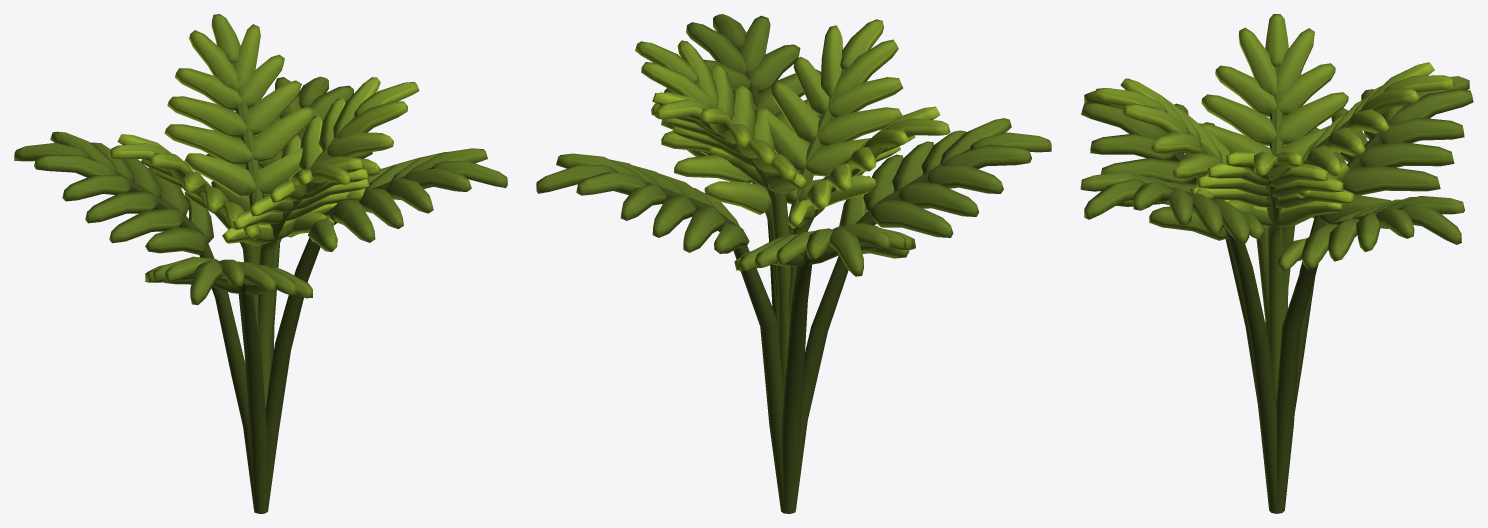
File: palm_tree_big_LOD_group.fbx
3 views of the same model, side by side, from view 1: azimuth 30°, elevation 25°; view 2: azimuth 150°, elevation 25°; view 3: azimuth 270°, elevation 25° (orthographic). The views are drawn at different scales.
Parts seen in each view (by area): view 1: palm_tree_big_LOD0; view 2: palm_tree_big_LOD0; view 3: palm_tree_big_LOD0.
Part boxes in pixels (box(x1,y1,x2,y2)): palm_tree_big_LOD0: box(14, 14, 507, 513); palm_tree_big_LOD0: box(536, 14, 1051, 513); palm_tree_big_LOD0: box(1080, 14, 1473, 513).
Size of what is drawn, in the model's own units: 367 by 468 by 368.
1 material, 1 textured.
